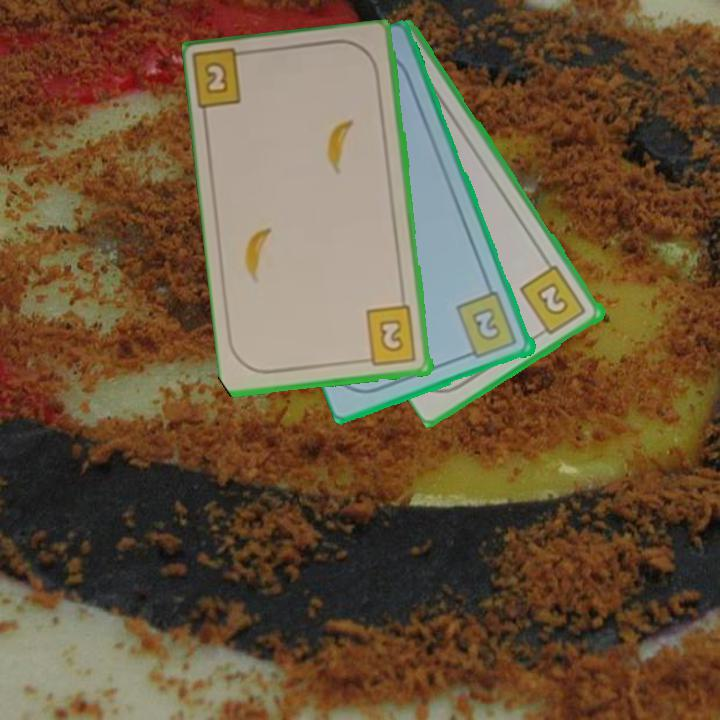2b: (517, 262, 590, 340), (453, 289, 521, 362), (192, 47, 257, 114), (359, 303, 420, 369)
